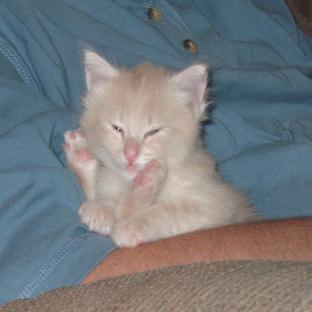Animal: (65, 50, 258, 246)
